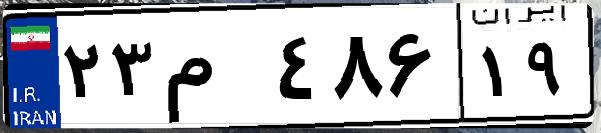1: (475, 38, 525, 113)
2: (57, 26, 110, 100)
3: (110, 28, 158, 98)
4: (270, 28, 330, 110)
6: (385, 28, 445, 110)
8: (330, 28, 385, 110)
9: (525, 38, 570, 115)
م: (158, 20, 270, 120)
